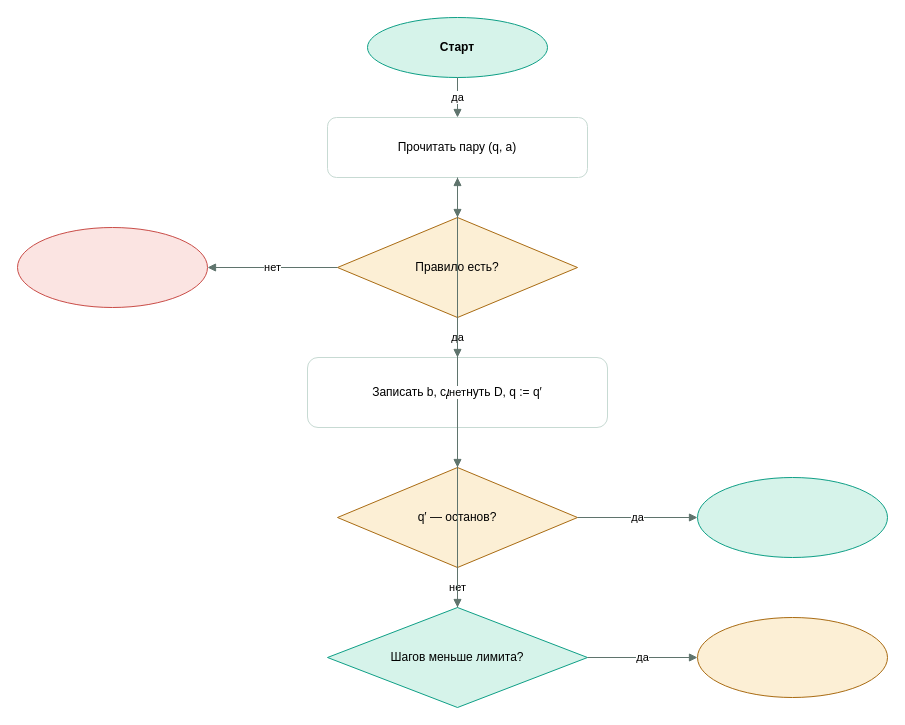
The diagram is 905 pixels wide and 725 high, and some of its shapes have lost their labels. The centre of each missing label's shape, as x and y in pixels:
"Стоп: достигнут qz" belongs at [792,517].
"Стоп: лимит шагов" belongs at [792,657].
"Стоп: нет правила" belongs at [112,267].
